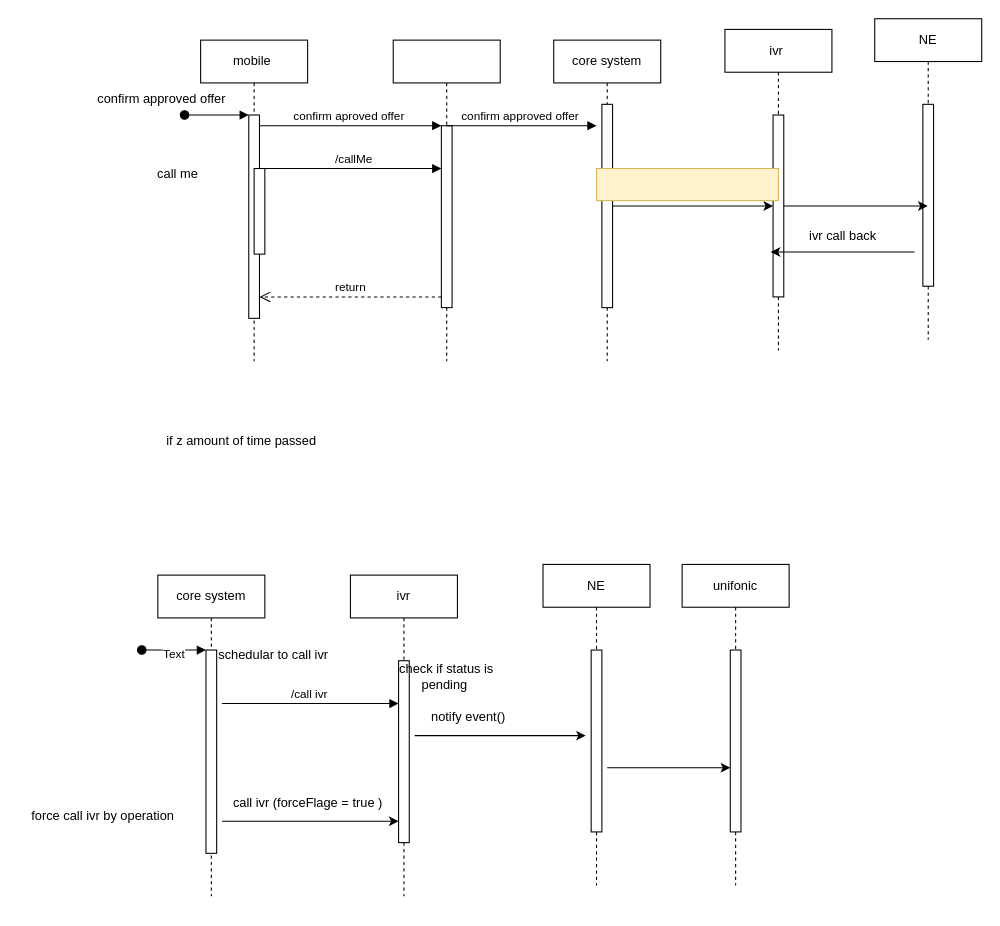
The diagram is 1000 pixels wide and 926 high, and some of its shapes have lost their labels. Each missing label, with the box of its shape:
/ivrCall (nid , forceCallFlag): (595, 167, 778, 201)
offering: (392, 39, 500, 361)
